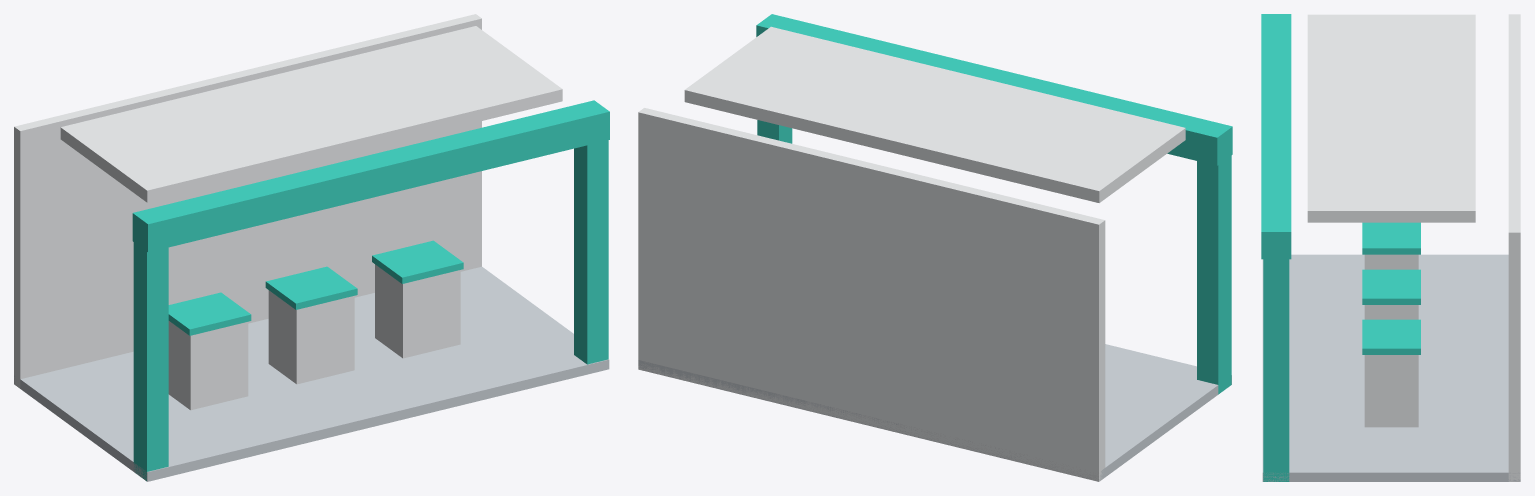
The picture shows the model from 3 angles, left to right: view 1: azimuth 30°, elevation 25°; view 2: azimuth 150°, elevation 25°; view 3: azimuth 270°, elevation 25°; orthographic projection. The views are drawn at different scales.
Parts seen in each view (by area): view 1: Exhibition Booth Concept; view 2: Exhibition Booth Concept; view 3: Exhibition Booth Concept.
Part boxes in pixels (box(x1,y1,x2,y2)): Exhibition Booth Concept: box(14, 14, 609, 481); Exhibition Booth Concept: box(638, 14, 1232, 481); Exhibition Booth Concept: box(1261, 14, 1520, 481).
Bounding box in the file's own units: 6 × 3.34 × 3.01.
